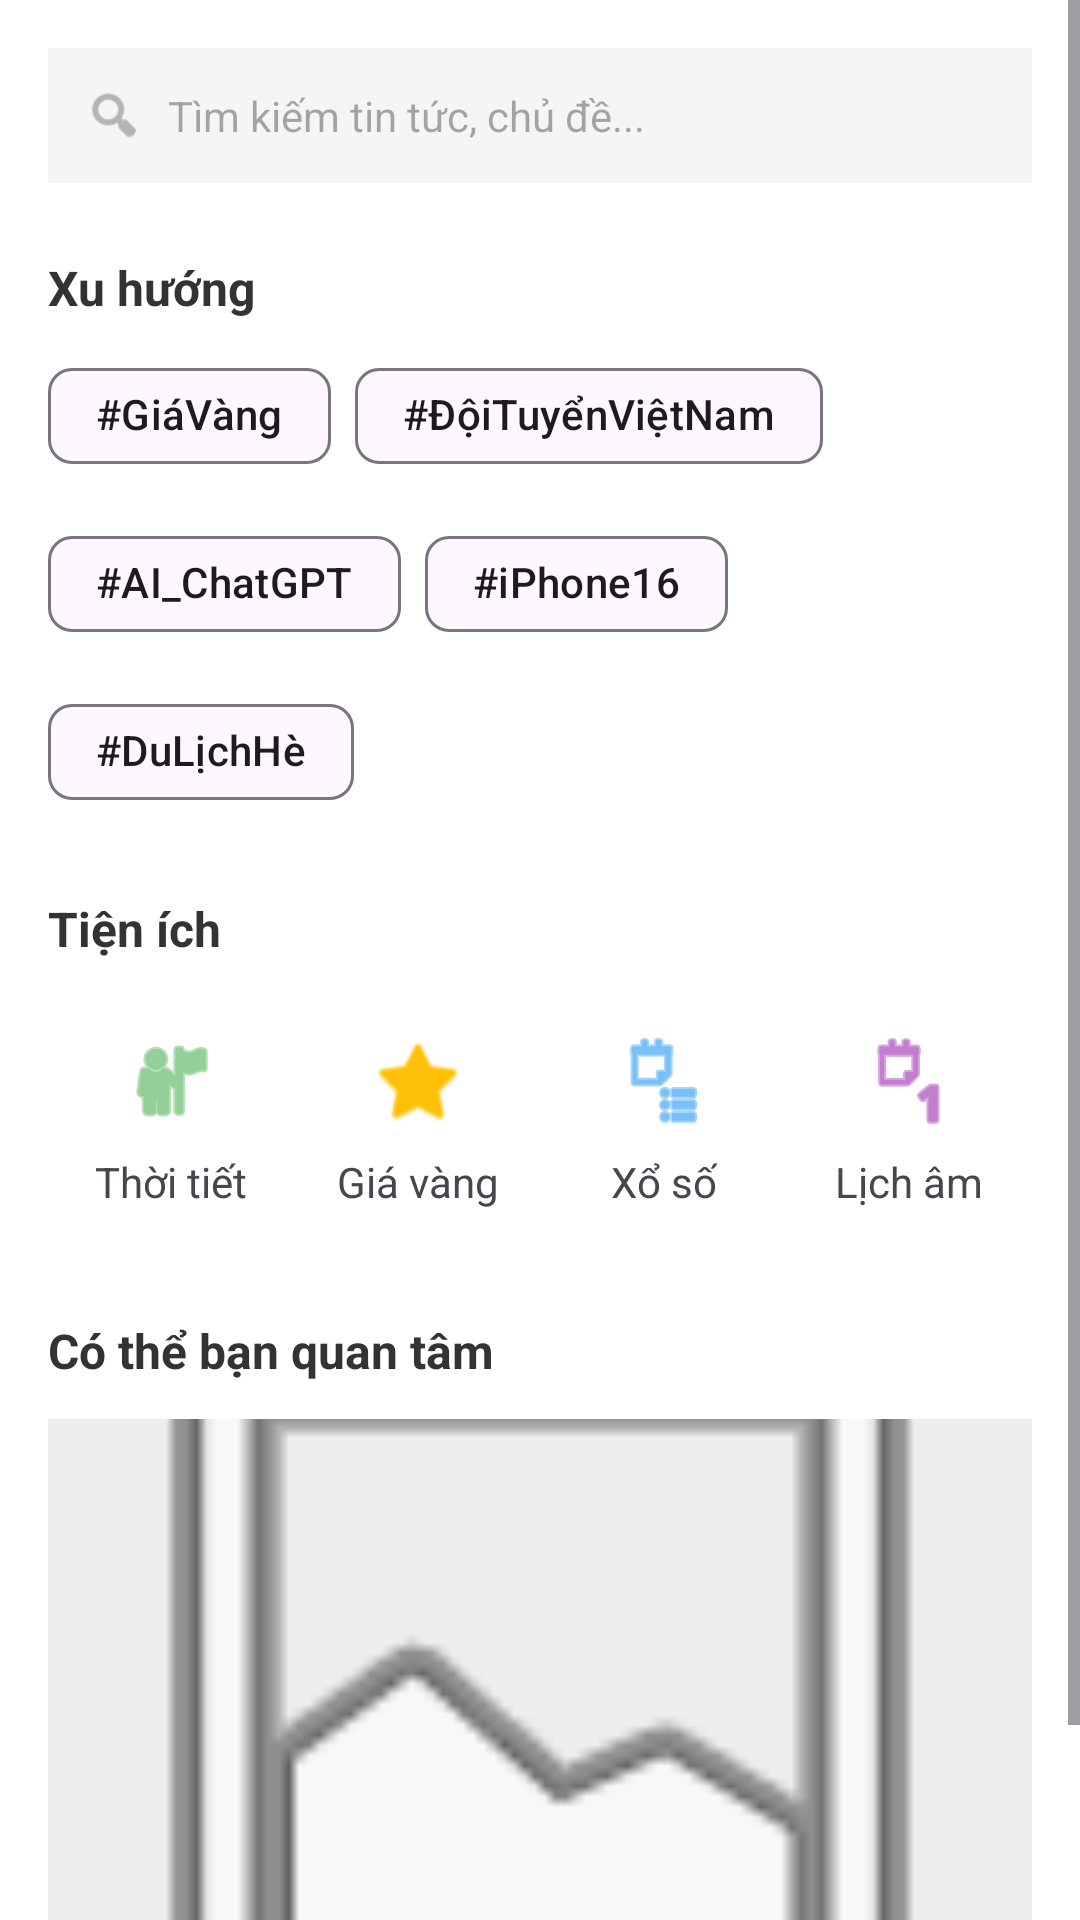

Named icons in this screenshot (1080 × 1920) and their centers, (x=x, y=y):
search: (x=114, y=115)
